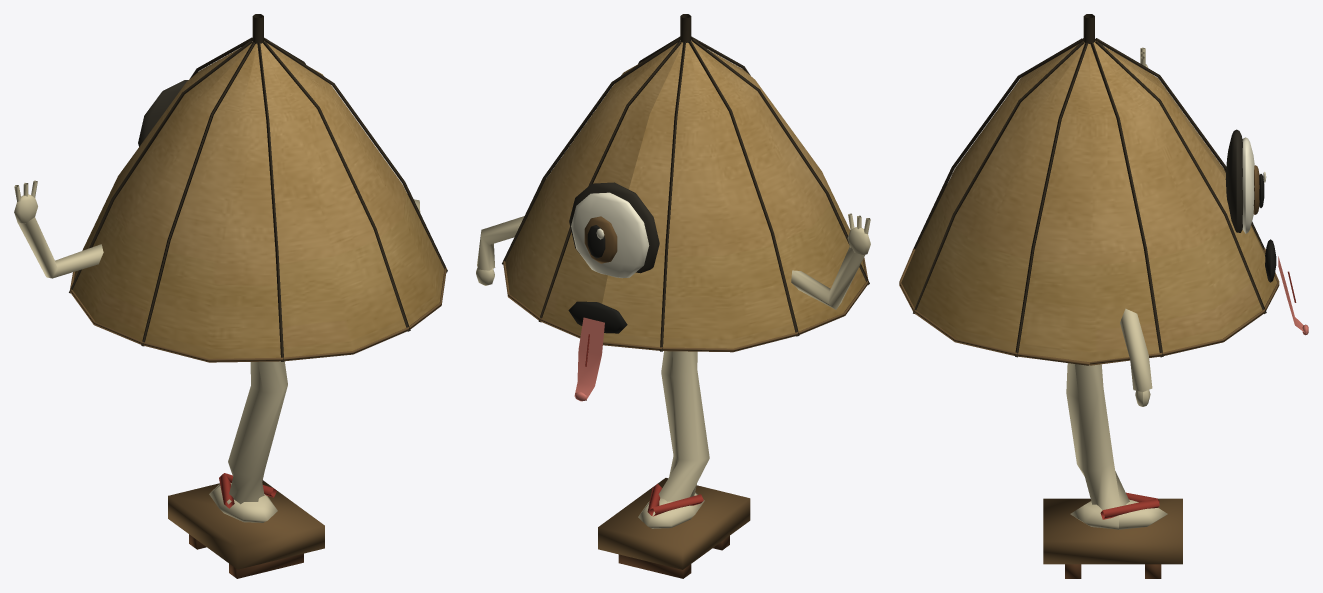
Rendered from nyanisyarud-yokai-karakasa-ochre.glb.
The picture shows the model from 3 angles, left to right: view 1: azimuth 30°, elevation 25°; view 2: azimuth 150°, elevation 25°; view 3: azimuth 270°, elevation 25°; orthographic projection. The views are drawn at different scales.
Visible parts, largest first — view 1: Old_Ochre_Karakasa_Kozo; view 2: Old_Ochre_Karakasa_Kozo; view 3: Old_Ochre_Karakasa_Kozo.
Part boxes in pixels (x1=…): Old_Ochre_Karakasa_Kozo: x1=14, y1=14, x2=447, y2=578; Old_Ochre_Karakasa_Kozo: x1=476, y1=14, x2=870, y2=578; Old_Ochre_Karakasa_Kozo: x1=899, y1=14, x2=1308, y2=578.
Bounding box in the file's own units: 1.58 × 2.03 × 1.38.
1 material, 1 textured.
